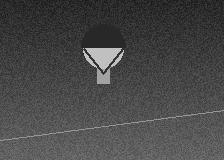helmet: (81, 24, 125, 73)
